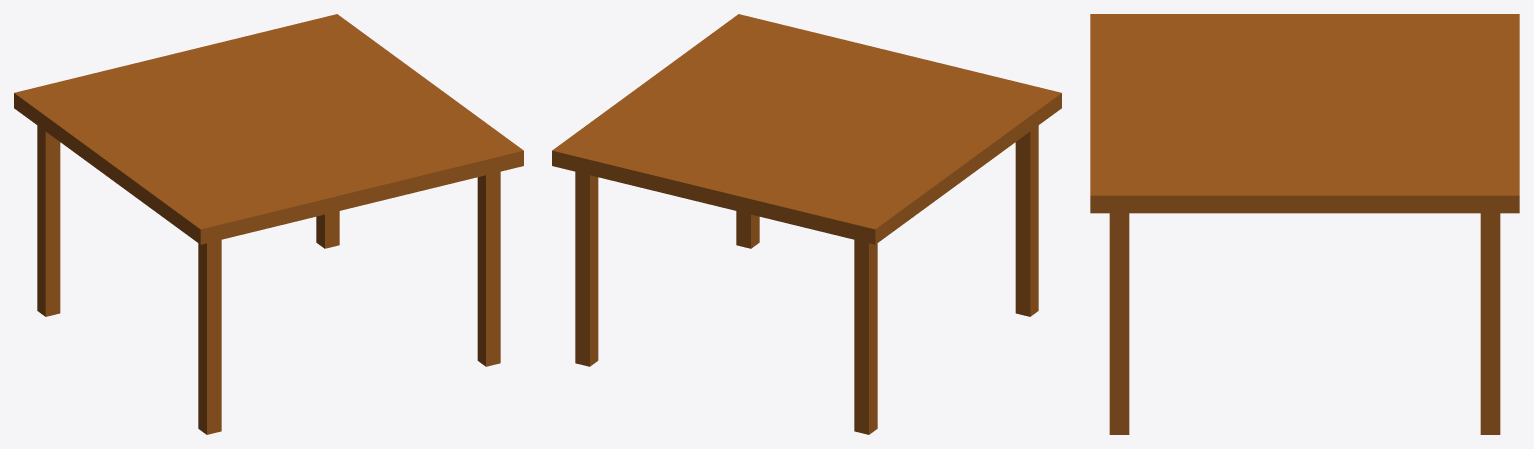
Rendered from Table2.obj.
The picture shows the model from 3 angles, left to right: view 1: azimuth 30°, elevation 25°; view 2: azimuth 150°, elevation 25°; view 3: azimuth 270°, elevation 25°; orthographic projection. The views are drawn at different scales.
Bounding box in the file's own units: 2.2 × 1.4 × 2.2.
Materials: 1 (1 with a texture image).
